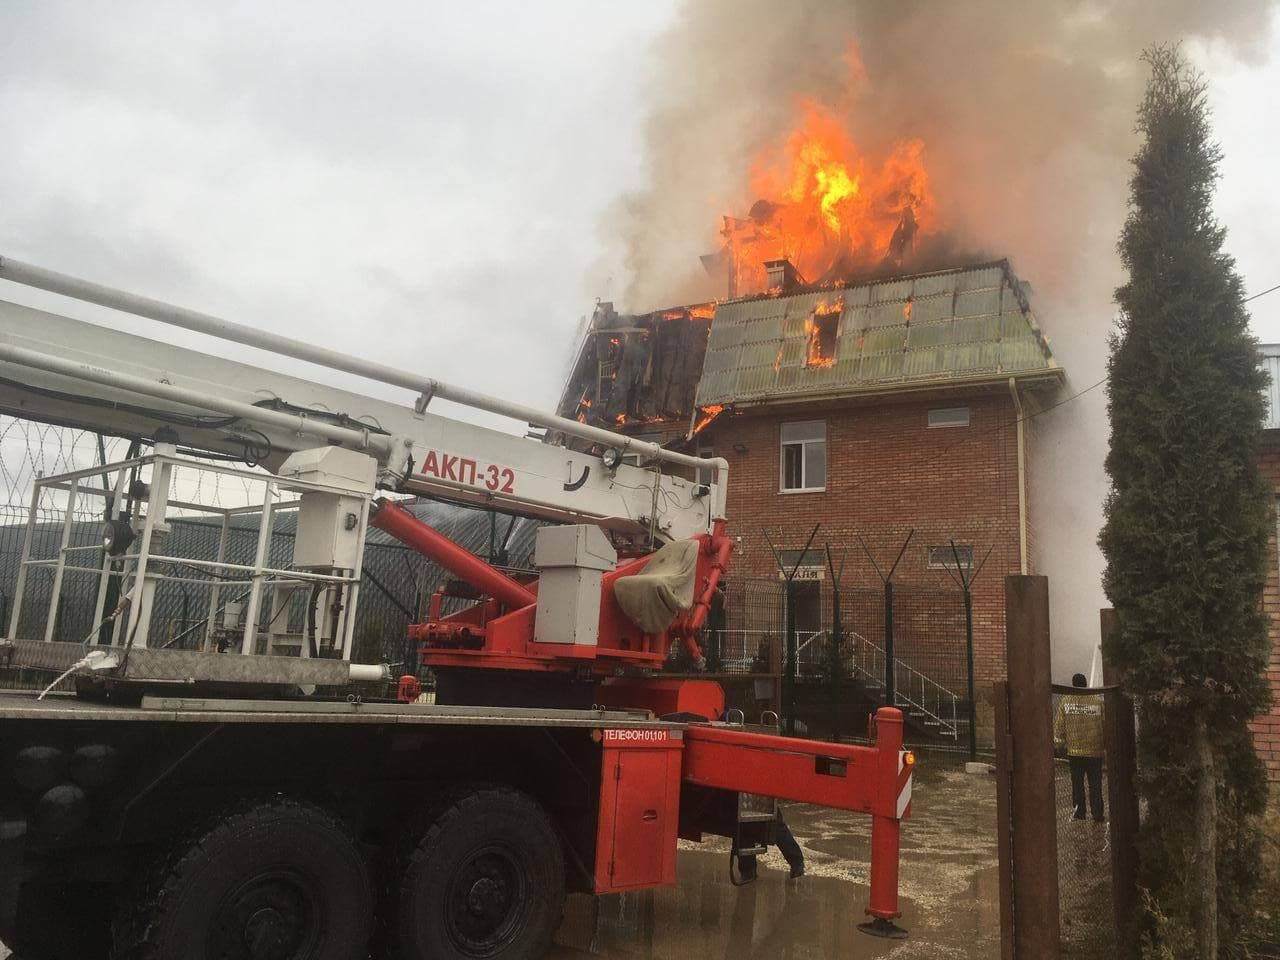fire: (641, 34, 1105, 292)
